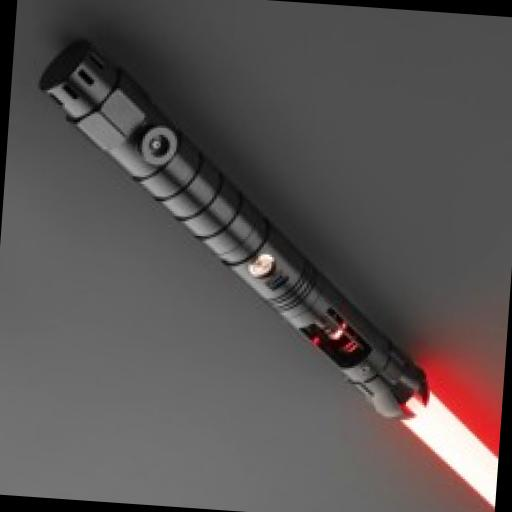sith saber: (12, 38, 512, 509)
